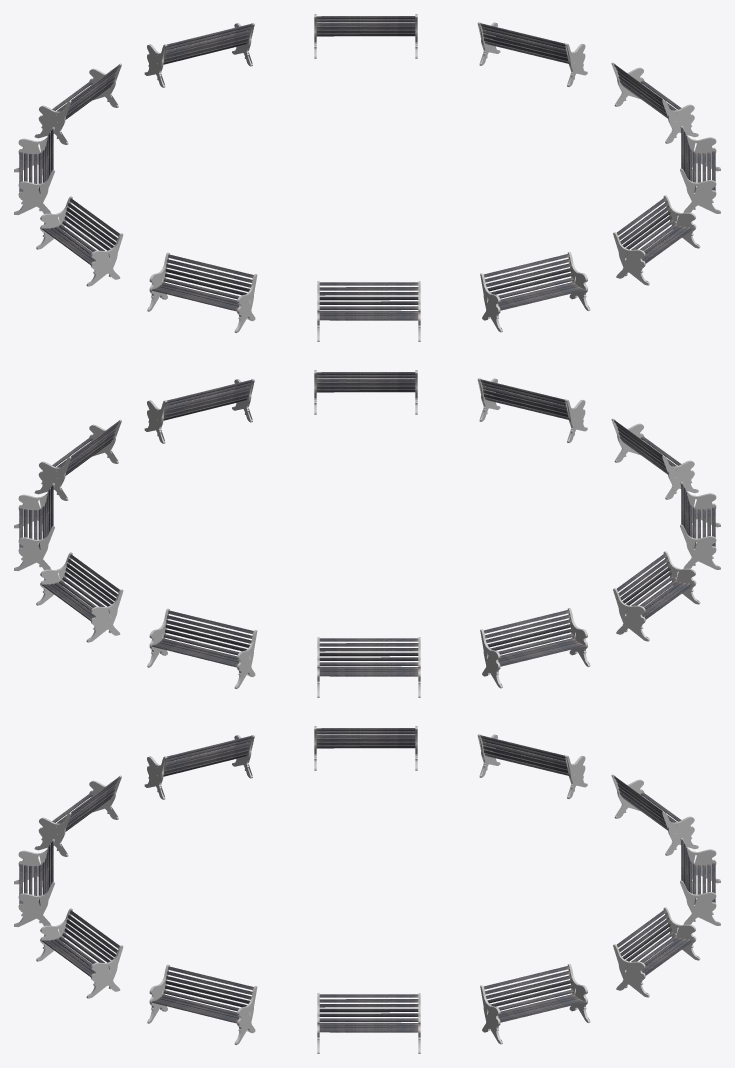
Rendered from bench.fbx.
3 renders of one model, top to bottom at view 1: azimuth 30°, elevation 25°; view 2: azimuth 150°, elevation 25°; view 3: azimuth 270°, elevation 25°, orthographic.
Parts seen in each view (by area): view 1: garden_bench; view 2: garden_bench; view 3: garden_bench.
Boxes of the visible parts, x1,y1,x2,y2 form: garden_bench: [14, 14, 720, 341]; garden_bench: [14, 370, 720, 697]; garden_bench: [14, 726, 720, 1053].
Bounding box in the file's own units: 16.16 × 1.12 × 16.16.
